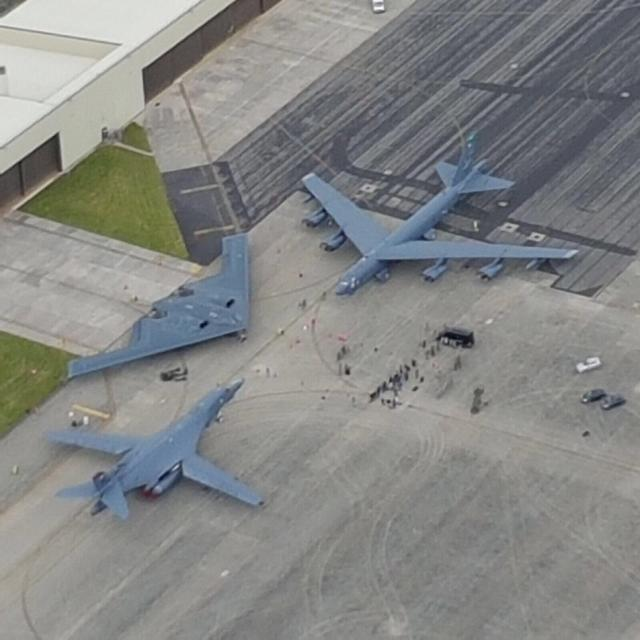MIL_Plane: (67, 238, 249, 372), (0, 412, 198, 485), (396, 130, 483, 296)
